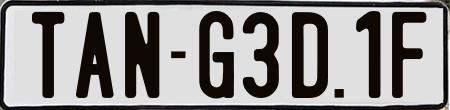1: (356, 8, 383, 100)
3: (242, 9, 282, 101)
A: (74, 11, 117, 98)
D: (292, 10, 333, 96)
F: (389, 12, 425, 99)
G: (196, 10, 237, 100)
N: (122, 10, 158, 101)
T: (31, 11, 68, 100)
